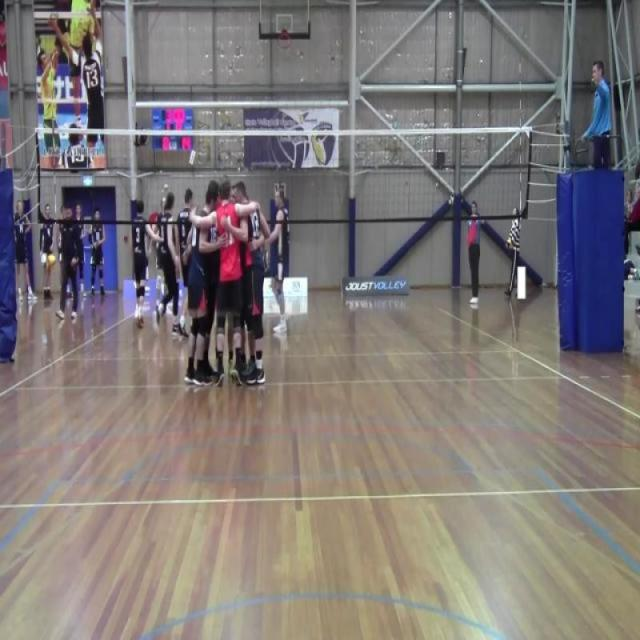volleyball: (45, 252, 57, 274)
